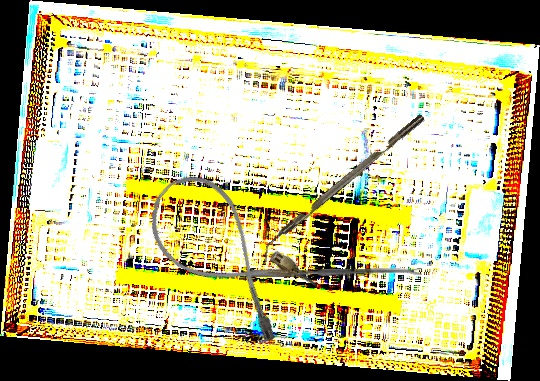Cannula: (130, 160, 325, 349)
Chopper: (254, 113, 432, 263)
Surgical Spoon: (250, 267, 423, 279)
